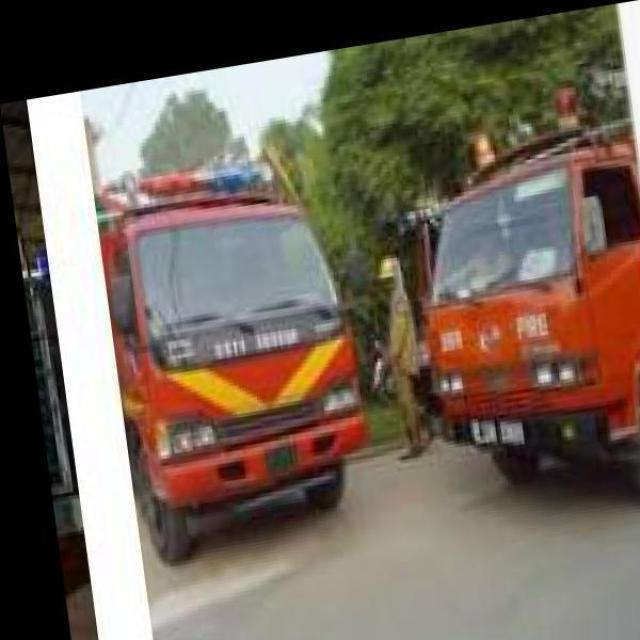emergency: (91, 169, 376, 536), (412, 120, 640, 503)
